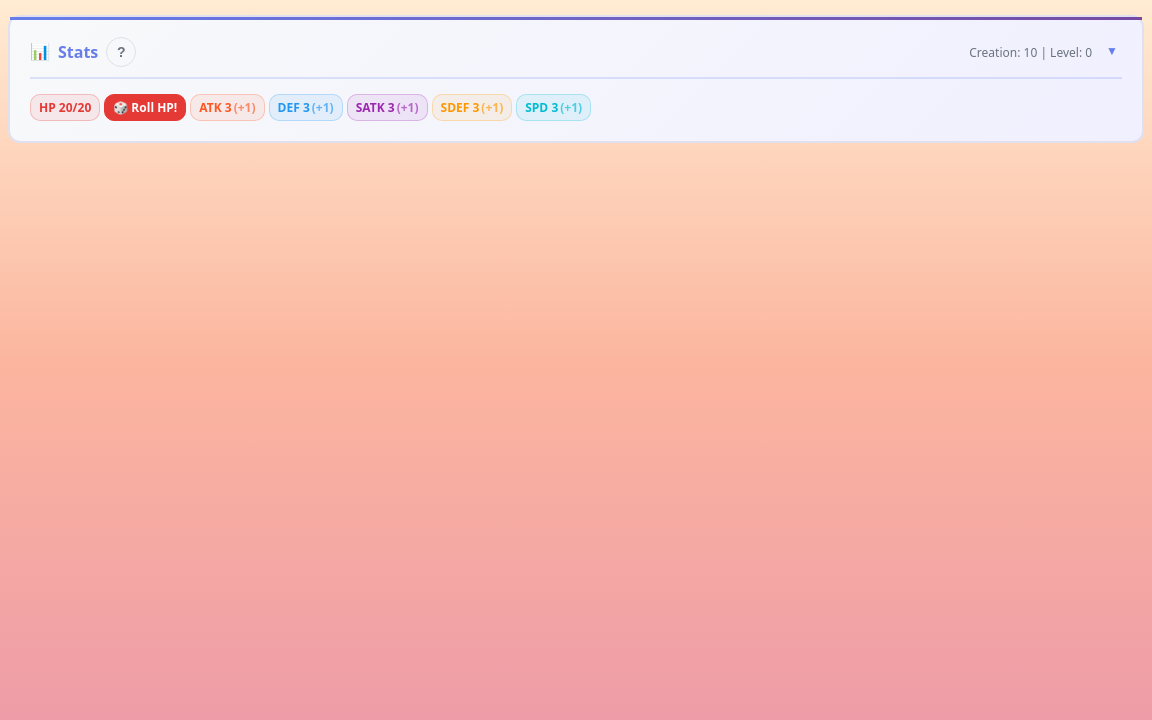
Test case: HP panel › shows the Roll HP Bonus button once a milestone level is reached and unrolled
Click the button named "expand stats" at (1112,52), box [1102, 40, 1122, 64]
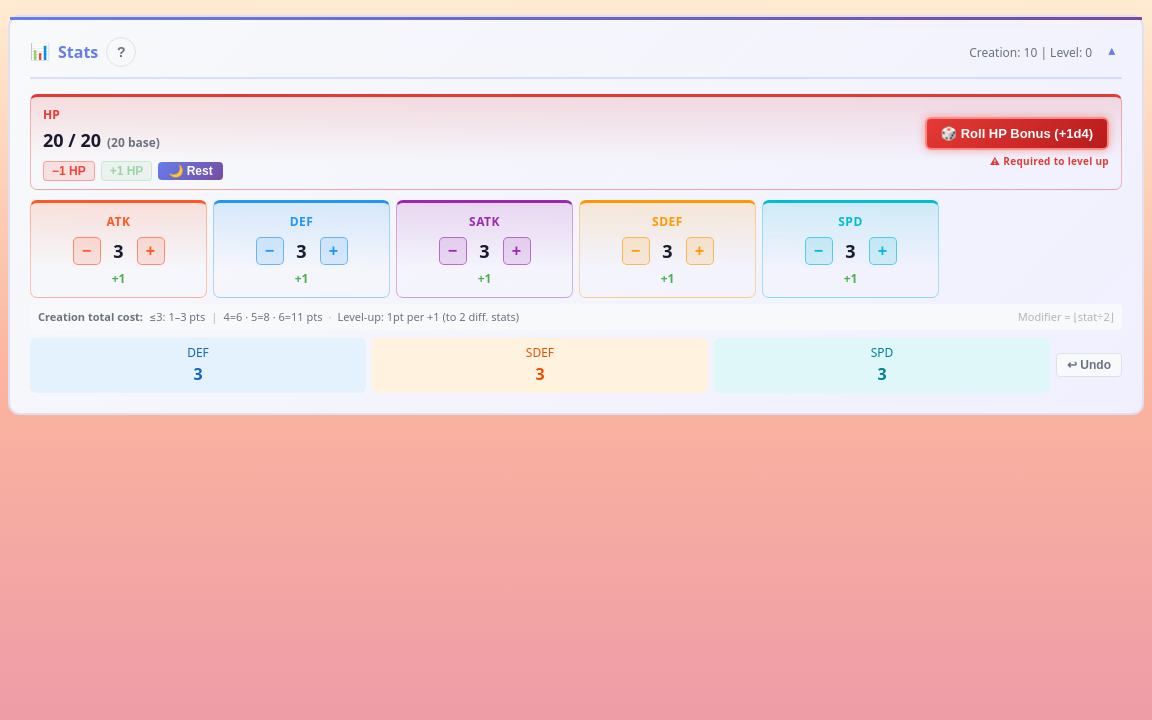
Expected: the button "🎲 Roll HP Bonus (+1d4)" is shown, [925, 117, 1109, 150]
